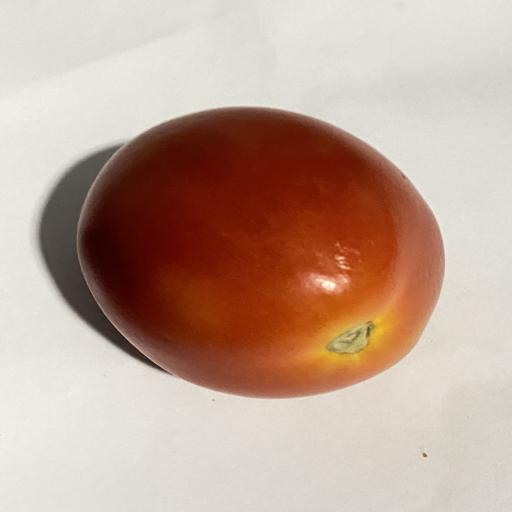ripe: (77, 107, 444, 397)
